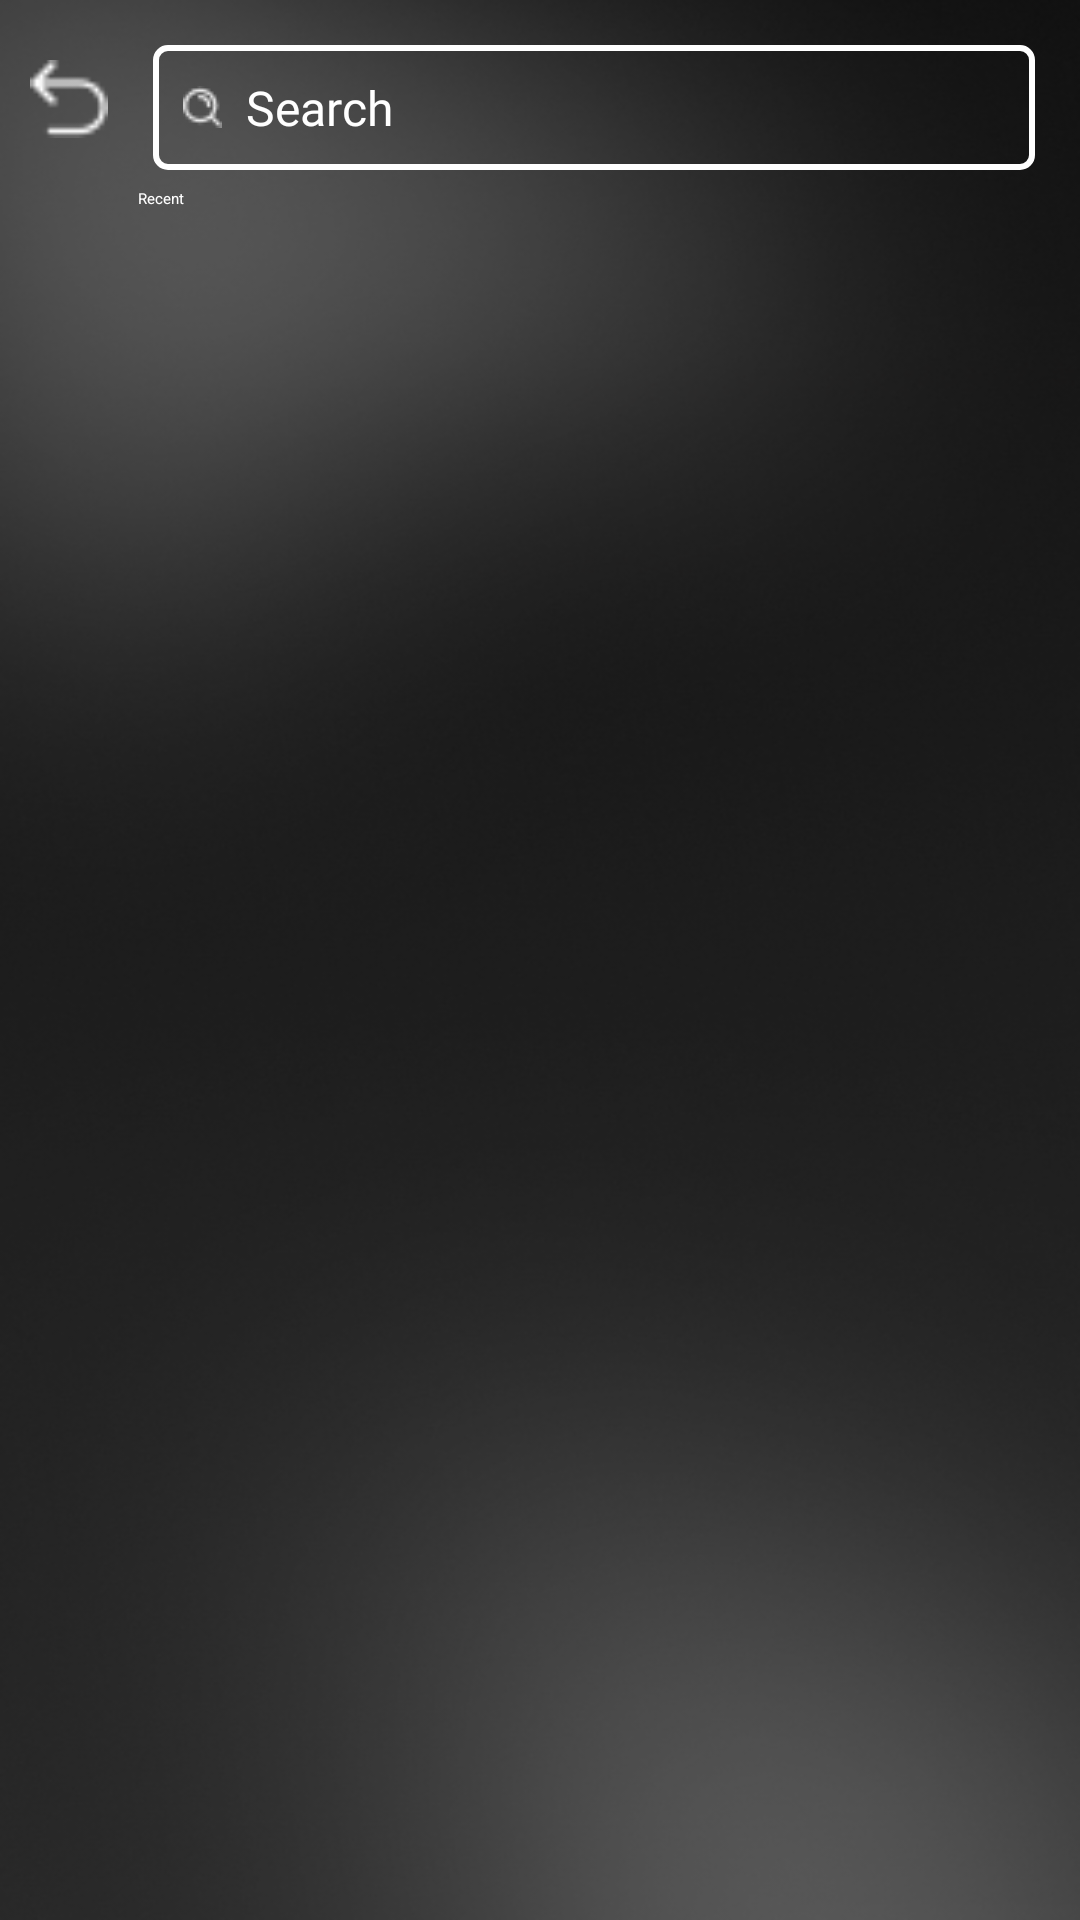

Icon bounding boxes for this 1080 x 1920 phone screenshot, format (x1,y1,x2,y2):
backbutton: (30,60,108,138)
